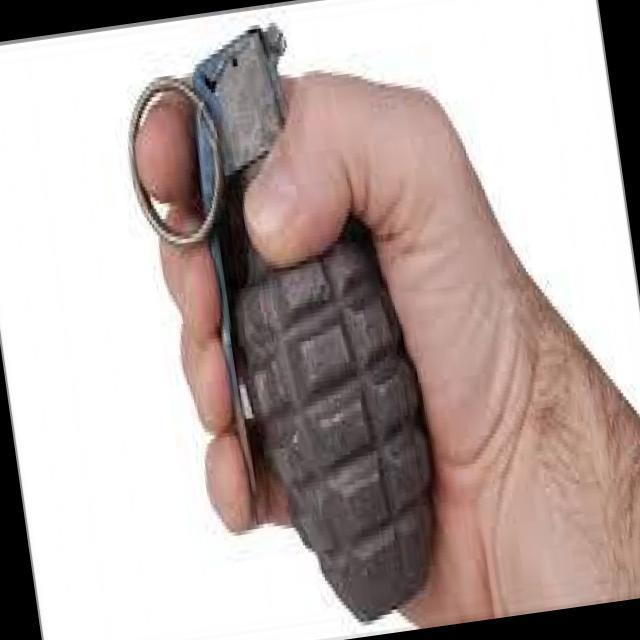grenade: (120, 4, 462, 640)
